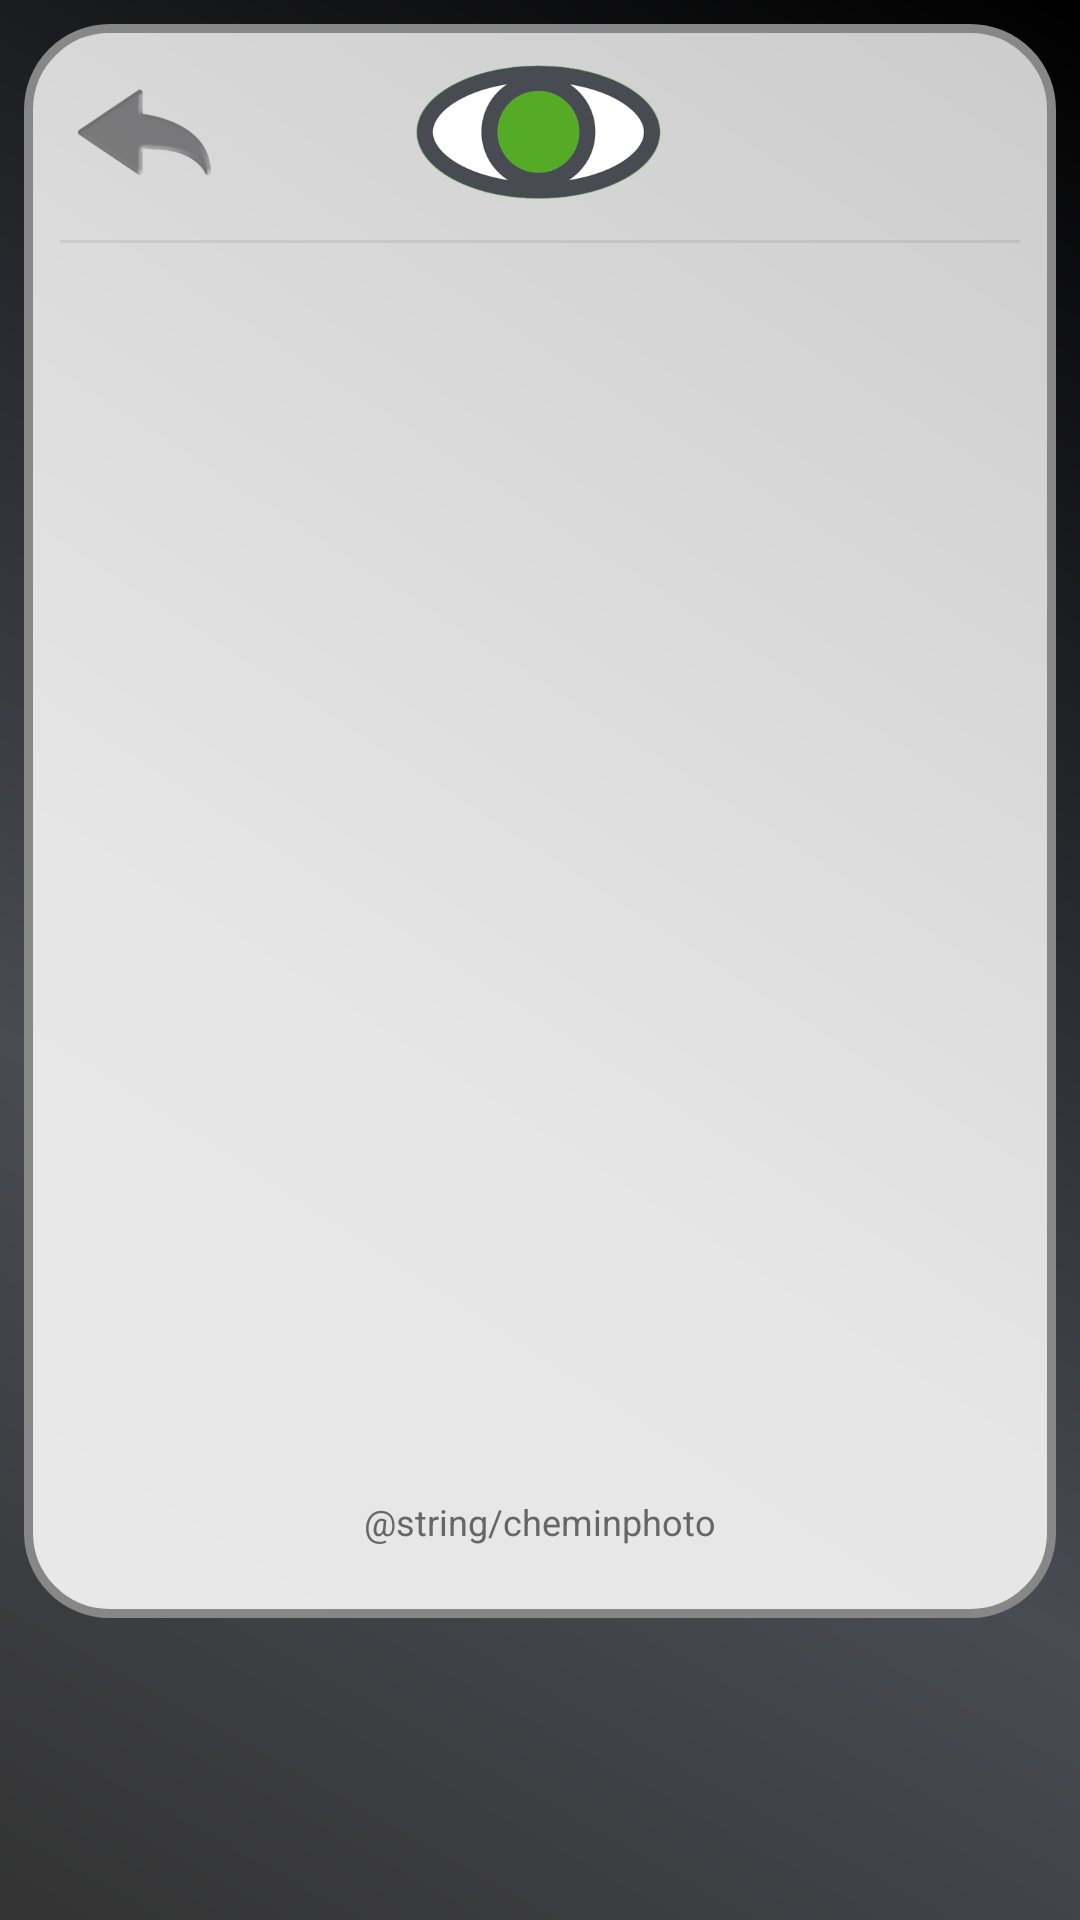

Named icons in this screenshot (1080 x 1920) and their bounding boxes, (x1, y1, x2, y2):
retour: (78, 89, 211, 175)
